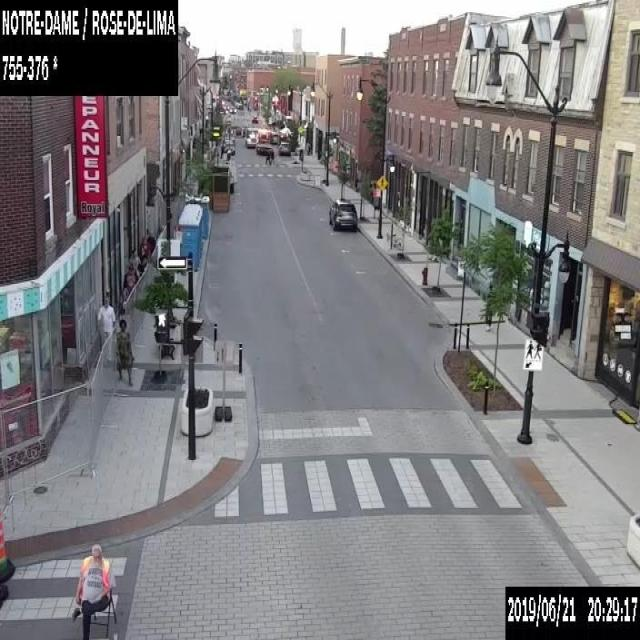construction: (0, 518, 15, 582)
pedestrian: (71, 541, 116, 639), (115, 318, 133, 386), (96, 296, 115, 360), (484, 282, 494, 328), (128, 248, 140, 278), (122, 265, 134, 293), (139, 247, 146, 270)
vehicle: (328, 198, 356, 230), (256, 128, 271, 153), (245, 127, 257, 148), (277, 141, 290, 155), (224, 140, 234, 154), (265, 148, 273, 164), (228, 105, 236, 113), (272, 133, 278, 143), (251, 115, 257, 122)
